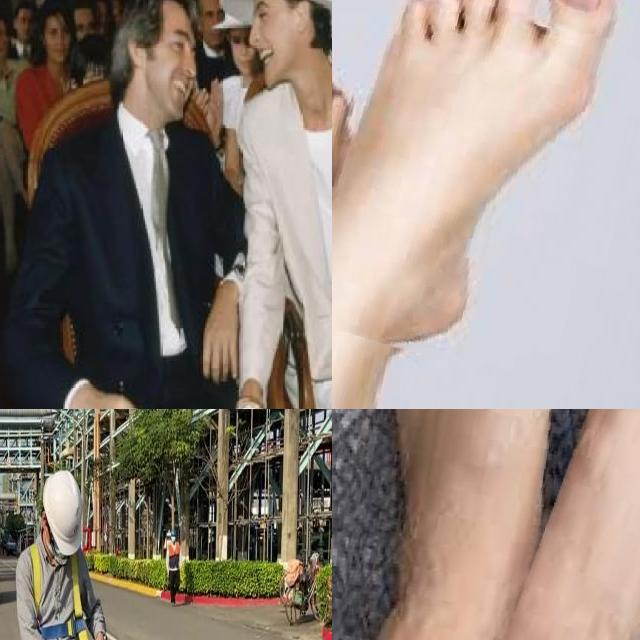Barefoots: (332, 0, 640, 388), (332, 409, 610, 640), (519, 409, 640, 640)
Harness: (30, 544, 88, 640)
face_nomask: (140, 7, 202, 122), (240, 0, 300, 90), (43, 16, 76, 64)
hand_noglove: (199, 310, 240, 386), (78, 391, 157, 409), (210, 78, 225, 134), (193, 82, 211, 116), (0, 47, 8, 78)
head_nohelmet: (109, 0, 205, 22), (45, 0, 82, 24)
person: (0, 0, 268, 409), (217, 0, 332, 409)
